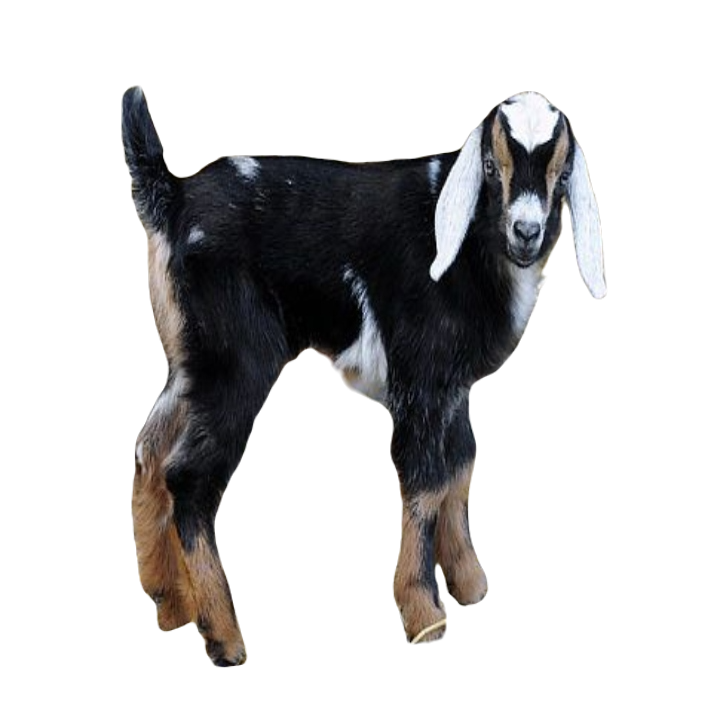Goat: (116, 84, 609, 664)
